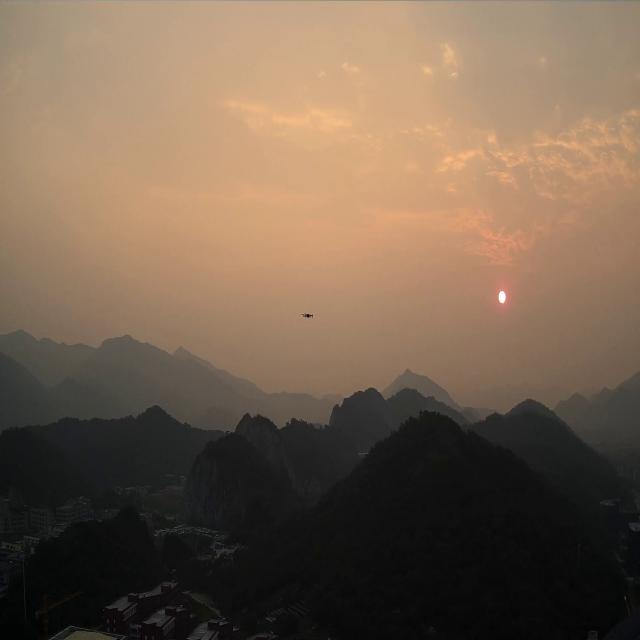drone: (301, 311, 314, 319)
